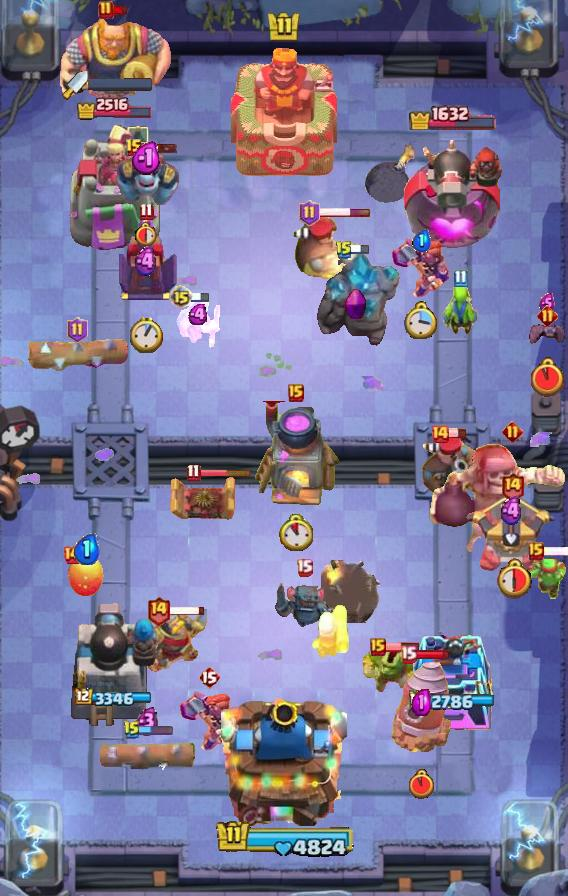baby-dragon: (320, 560, 379, 623), (365, 143, 416, 205)
bar: (67, 122, 161, 256)
barbarian-barrel: (527, 322, 567, 348)
battle-ram: (274, 579, 334, 629)
cannoneer-tower: (313, 253, 401, 351)
clock: (211, 819, 357, 861)
electro-giant: (426, 442, 568, 556)
electro-spirit: (131, 140, 163, 175), (131, 247, 160, 278), (72, 533, 99, 565), (498, 496, 526, 526), (136, 706, 159, 736), (413, 688, 432, 715), (188, 303, 210, 324), (413, 228, 432, 252), (539, 293, 555, 313)
elixir: (492, 557, 531, 599), (532, 357, 565, 397), (404, 301, 438, 339), (279, 513, 313, 551), (129, 315, 162, 353), (410, 769, 435, 799), (135, 221, 159, 247)
elixir-golem-small: (113, 147, 181, 209)
emote: (317, 206, 371, 217), (198, 468, 252, 477), (141, 142, 178, 154), (384, 641, 420, 653), (138, 724, 174, 736), (170, 605, 207, 616), (413, 649, 450, 660), (542, 546, 568, 557), (448, 428, 468, 440), (351, 245, 370, 256), (191, 292, 210, 303), (112, 5, 129, 16)
firecracker: (146, 609, 206, 673)
flying-machine: (362, 644, 422, 698)
giant-skeleton: (58, 14, 174, 104)
giant-snowball: (175, 299, 223, 351), (528, 555, 568, 605)
goblin-brawler: (169, 474, 239, 524)
hog: (66, 554, 106, 598)
hunter: (251, 401, 341, 509)
ice-spirit-evolution-symbol: (114, 215, 178, 303)
king-tower: (221, 690, 347, 826), (231, 43, 337, 181)
king-tower-bar: (88, 77, 152, 91)
lava-pup: (466, 491, 558, 573)
magic-archer: (391, 659, 451, 753)
minion: (27, 334, 130, 372), (97, 735, 197, 773)
phoenix-small: (289, 215, 363, 279), (420, 432, 482, 500)
queen-tower: (412, 623, 494, 731)
selected: (408, 102, 498, 130), (75, 95, 153, 121), (409, 690, 497, 712), (74, 688, 154, 708)
skeleton-king-skill: (345, 288, 367, 322)
tesla-evolution: (390, 236, 452, 300), (178, 689, 240, 753)
text: (499, 471, 524, 502), (146, 595, 170, 626), (169, 285, 193, 309), (67, 317, 89, 343), (300, 200, 321, 226), (198, 665, 220, 689), (501, 421, 522, 443), (538, 306, 559, 327), (430, 424, 450, 444), (62, 545, 82, 565), (125, 138, 143, 158), (335, 240, 353, 260), (123, 720, 141, 740), (399, 645, 417, 664), (295, 559, 312, 578), (98, 0, 114, 20), (288, 384, 304, 402), (528, 542, 544, 560), (370, 638, 386, 656), (186, 463, 201, 482), (138, 203, 153, 221), (453, 269, 467, 287)
tombstone: (309, 602, 351, 660)
tower-bar: (401, 132, 508, 256), (69, 599, 159, 731)
zap: (441, 278, 479, 336)
